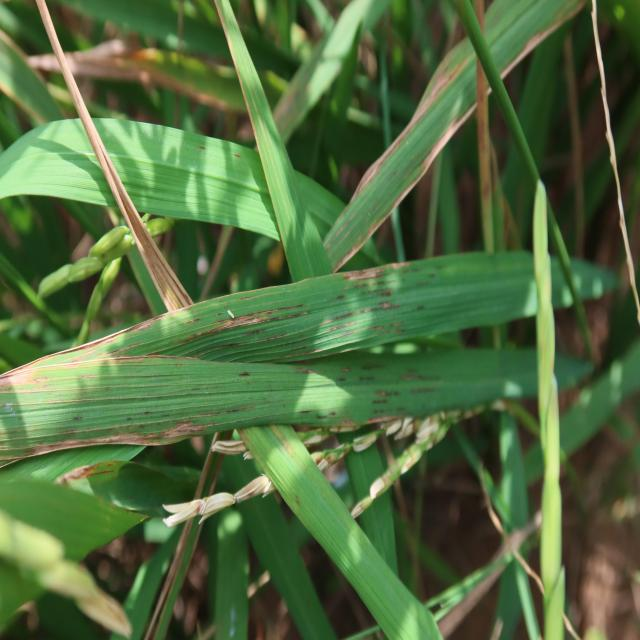Dom soc vi khuan: (0, 353, 453, 471), (123, 255, 487, 365)
